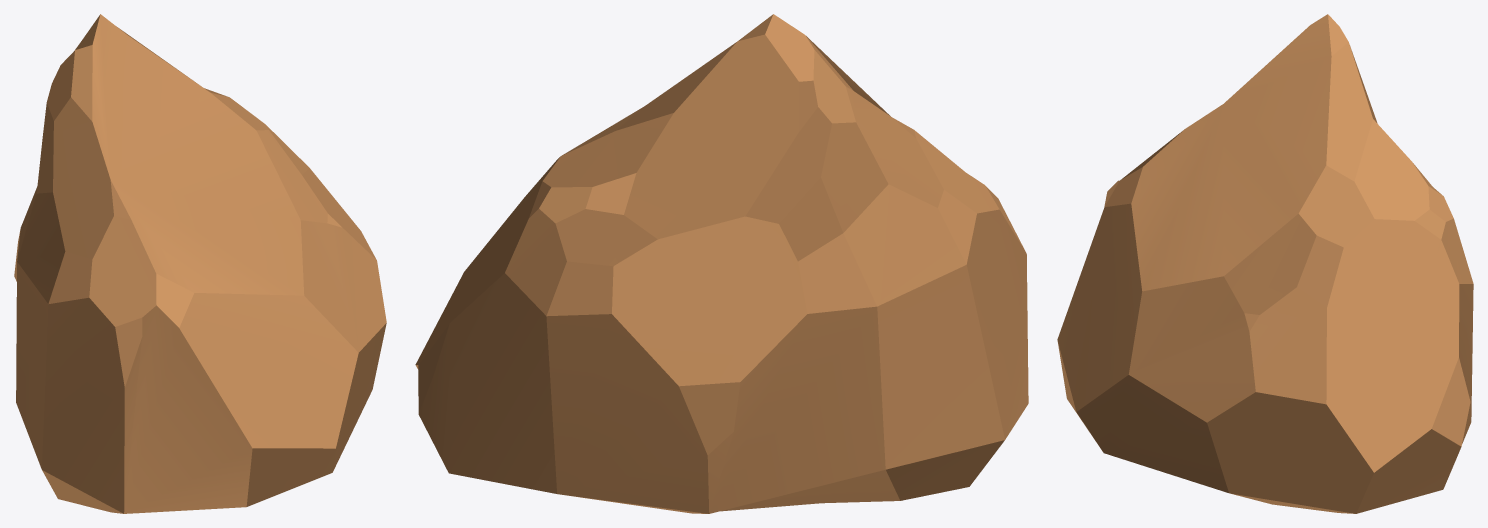
The model's file is Rock_4.fbx.
3 renders of one model, left to right at view 1: azimuth 30°, elevation 25°; view 2: azimuth 150°, elevation 25°; view 3: azimuth 270°, elevation 25°, orthographic. The views are drawn at different scales.
Visible parts, largest first — view 1: Rock4; view 2: Rock4; view 3: Rock4.
Part boxes in pixels (x1,y1,x2,y2): Rock4: (14, 14, 386, 513); Rock4: (415, 14, 1028, 513); Rock4: (1057, 14, 1473, 513).
Size of the model in its own units: 137 by 139 by 128.
